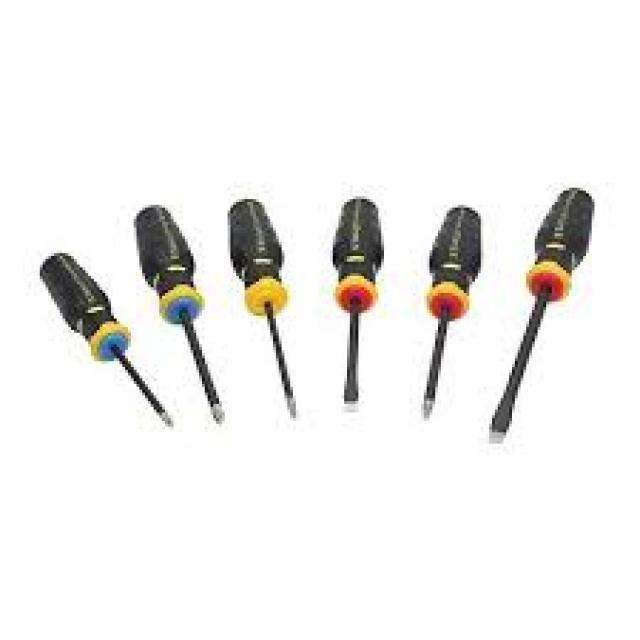screwdriver: (486, 168, 600, 450), (121, 194, 226, 426), (38, 248, 172, 426), (226, 192, 300, 422), (416, 202, 486, 424), (328, 196, 382, 421)
